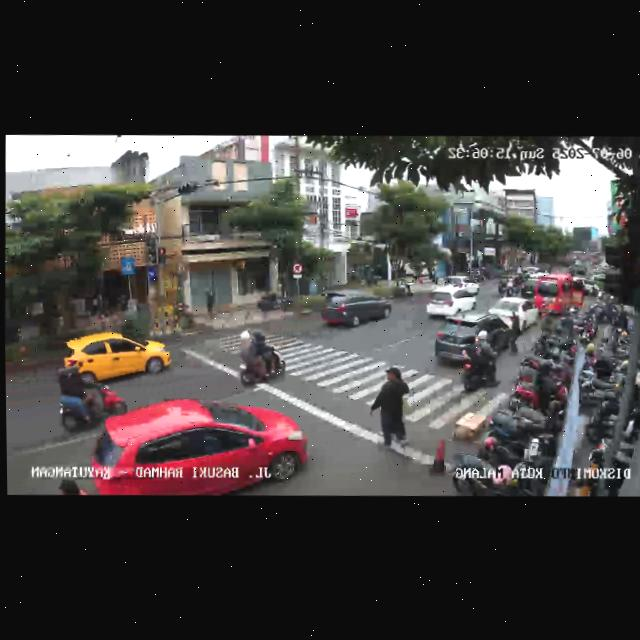car: (88, 396, 306, 498), (58, 328, 169, 386), (432, 312, 513, 371), (317, 288, 391, 334), (534, 271, 588, 317), (424, 284, 477, 321), (491, 296, 539, 332), (520, 277, 538, 296)
motorcycle: (52, 364, 117, 438), (234, 328, 286, 389), (459, 327, 499, 394), (497, 273, 513, 298)
person: (371, 367, 414, 459)
